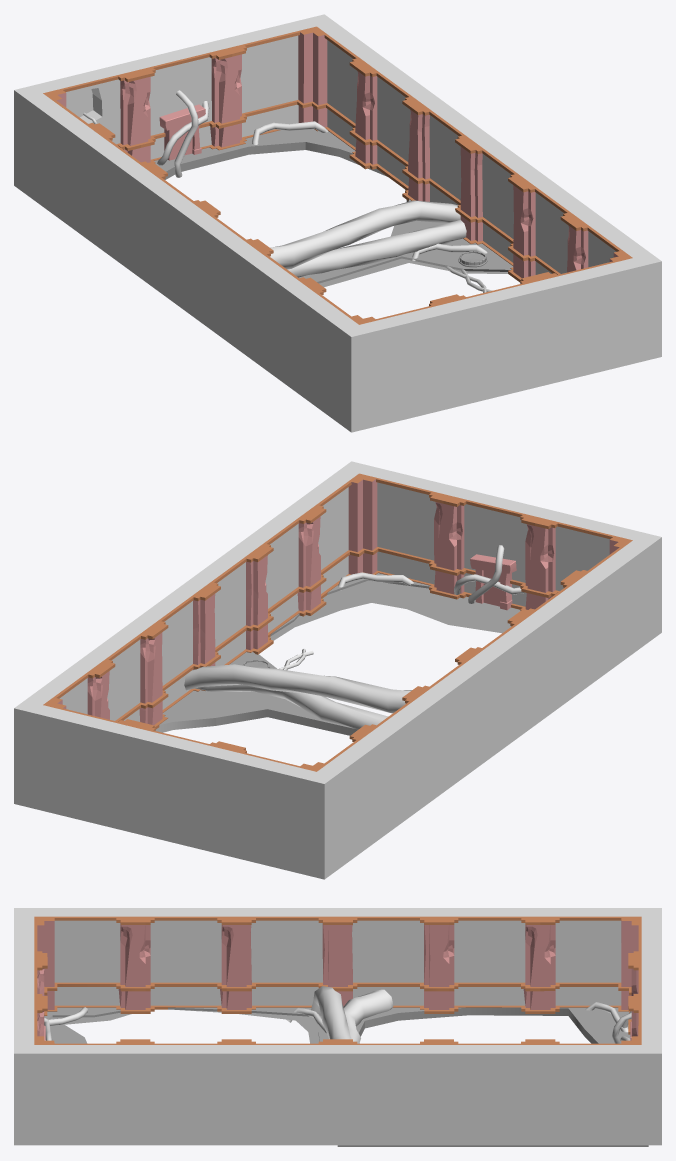
Rendered from MOD_Salle3PresentFinal.fbx.
The picture shows the model from 3 angles, top to bottom: view 1: azimuth 30°, elevation 25°; view 2: azimuth 150°, elevation 25°; view 3: azimuth 270°, elevation 25°; orthographic projection. The views are drawn at different scales.
Parts seen in each view (by area): view 1: mur_angle27, mur_angle26, mur_angle28, mur_angle29, mur_porte10, mur_porte9, mur_pillier_detruit102, mur_sans_trou7, mur_pillier_detruit2, mur_pillier_detruit101, mur_sans_trou6, mur_sans_trou4 (+8 smaller); view 2: mur_angle29, mur_angle26, mur_angle28, mur_angle27, mur_porte9, mur_porte10, mur_sans_trou6, mur_pillier_detruit101, mur_sans_trou7, mur_pillier_detruit102, mur_pillier_detruit100, mur_sans_trou4 (+6 smaller); view 3: mur_angle28, mur_angle26, mur_angle27, mur_angle29, mur_pillier_detruit100, mur_sans_trou4, mur_sans_trou5, mur_pillier_detruit2, mur_pillier_detruit102, mur_pillier_detruit101, mur_sans_trou7, mur_sans_trou6 (+6 smaller).
Part boxes in pixels (box(x1,y1,x2,y2)): mur_angle27: box(288, 283, 460, 432); mur_angle26: box(535, 215, 661, 383); mur_angle28: box(215, 14, 387, 162); mur_angle29: box(14, 63, 140, 231); mur_porte10: box(444, 275, 552, 405); mur_porte9: box(124, 41, 232, 163); mur_pillier_detruit102: box(235, 245, 317, 385); mur_sans_trou7: box(182, 206, 265, 347); mur_pillier_detruit2: box(357, 60, 439, 200); mur_pillier_detruit101: box(77, 129, 159, 270); mur_sans_trou6: box(130, 167, 212, 308); mur_sans_trou4: box(463, 138, 545, 278); mur_angle29: box(215, 730, 387, 879); mur_angle26: box(288, 461, 460, 609); mur_angle28: box(14, 662, 140, 830); mur_angle27: box(535, 510, 661, 678); mur_porte9: box(123, 722, 231, 852); mur_porte10: box(443, 488, 551, 610); mur_sans_trou6: box(410, 653, 493, 794); mur_pillier_detruit101: box(358, 692, 440, 832); mur_sans_trou7: box(463, 614, 545, 755); mur_pillier_detruit102: box(516, 576, 598, 717); mur_pillier_detruit100: box(236, 507, 318, 648); mur_sans_trou4: box(183, 546, 265, 666); mur_angle28: box(540, 1002, 661, 1145); mur_angle26: box(14, 1002, 135, 1145); mur_angle27: box(14, 908, 135, 1015); mur_angle29: box(540, 908, 661, 1025); mur_pillier_detruit100: box(135, 1039, 236, 1145); mur_sans_trou4: box(236, 1039, 337, 1145); mur_sans_trou5: box(338, 1039, 439, 1145); mur_pillier_detruit2: box(439, 1039, 540, 1145); mur_pillier_detruit102: box(135, 908, 236, 1013); mur_pillier_detruit101: box(439, 908, 540, 1013); mur_sans_trou7: box(236, 908, 337, 1013); mur_sans_trou6: box(338, 908, 439, 1013).
Size of the model in its own units: 17 by 5.71 by 32.
